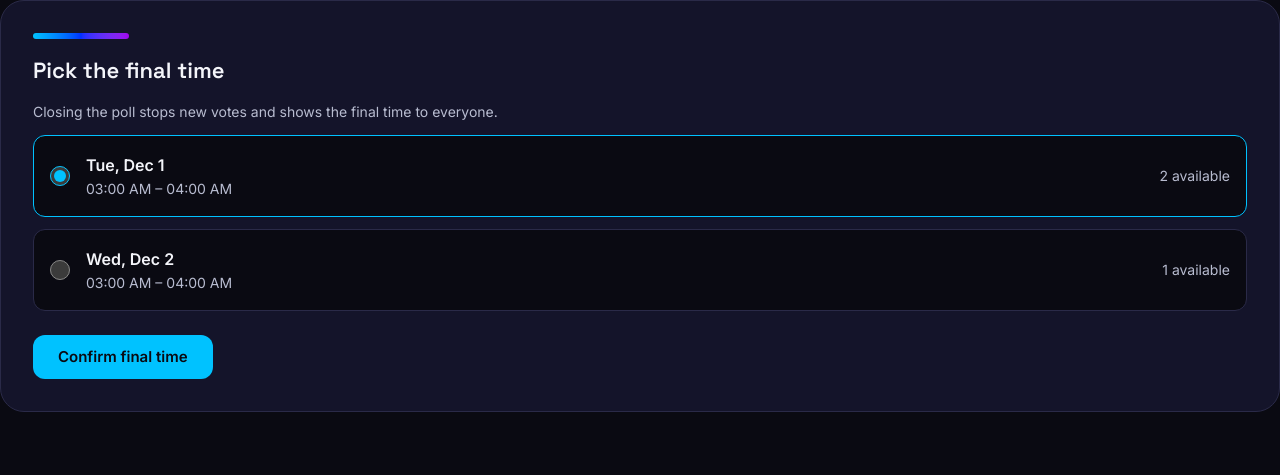
Test: FinalizeForm › shows an error from the server
Click the button "Confirm final time": (123, 357) [33, 335, 212, 379]
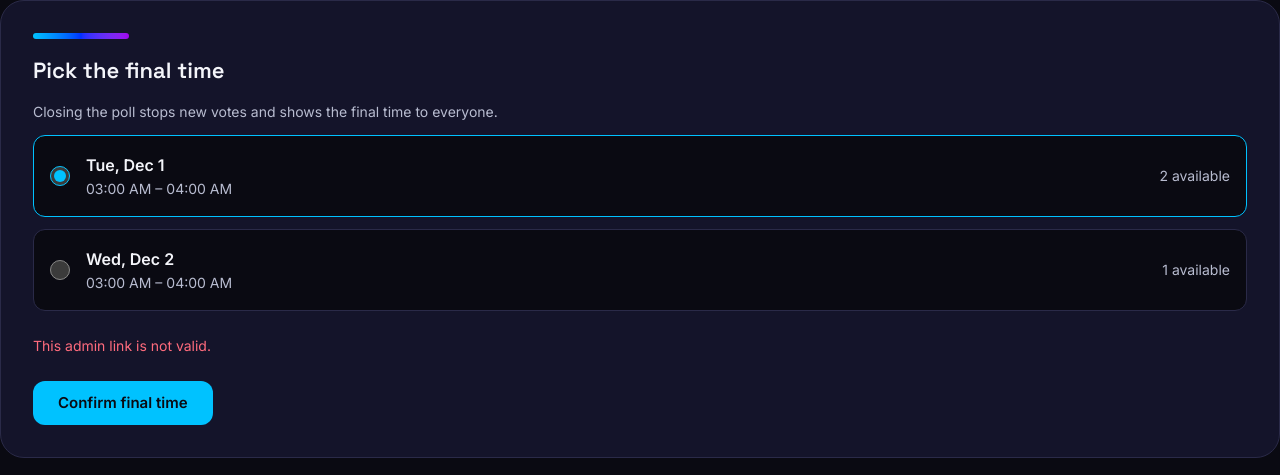
Result: the message reads "This admin link is not valid." at [33, 337, 211, 354]
